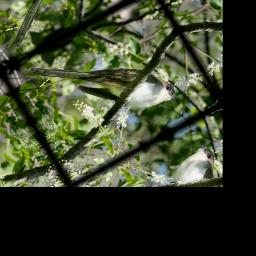Cuckoo: (22, 11, 184, 161)
